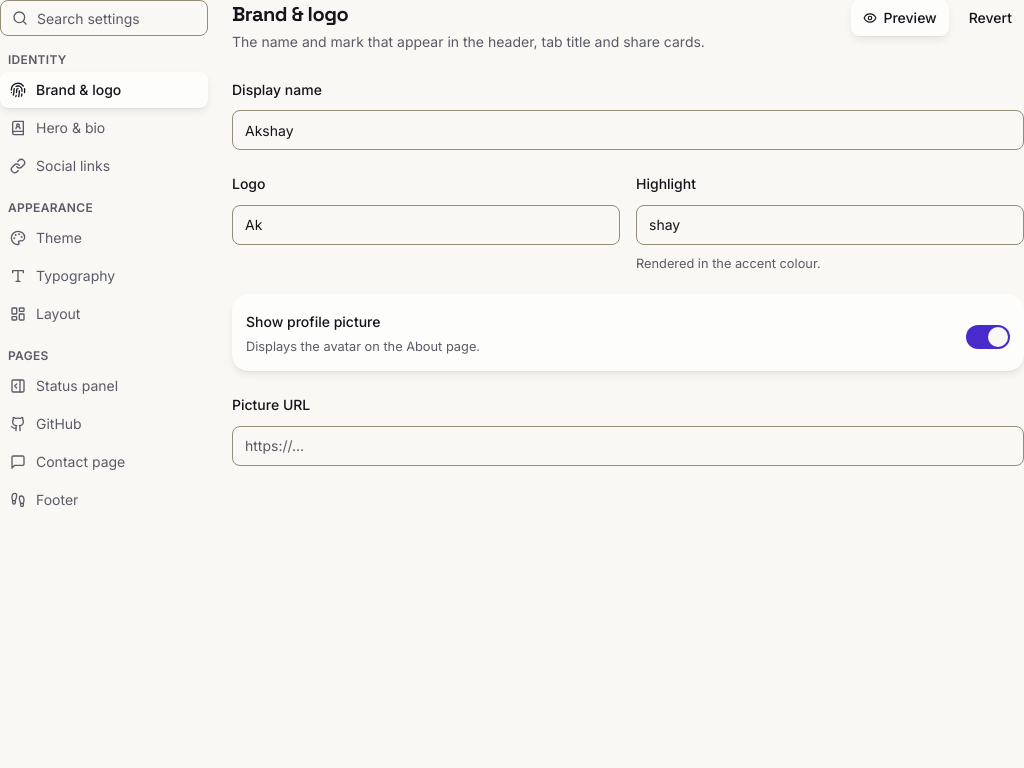
Test: SettingsPage revert › restores this group and leaves other groups alone
This screenshot has width=1024, height=768.
Replace the text in the field labelled "Display name" with "Changed" at (628, 130), box [232,110,1023,150]
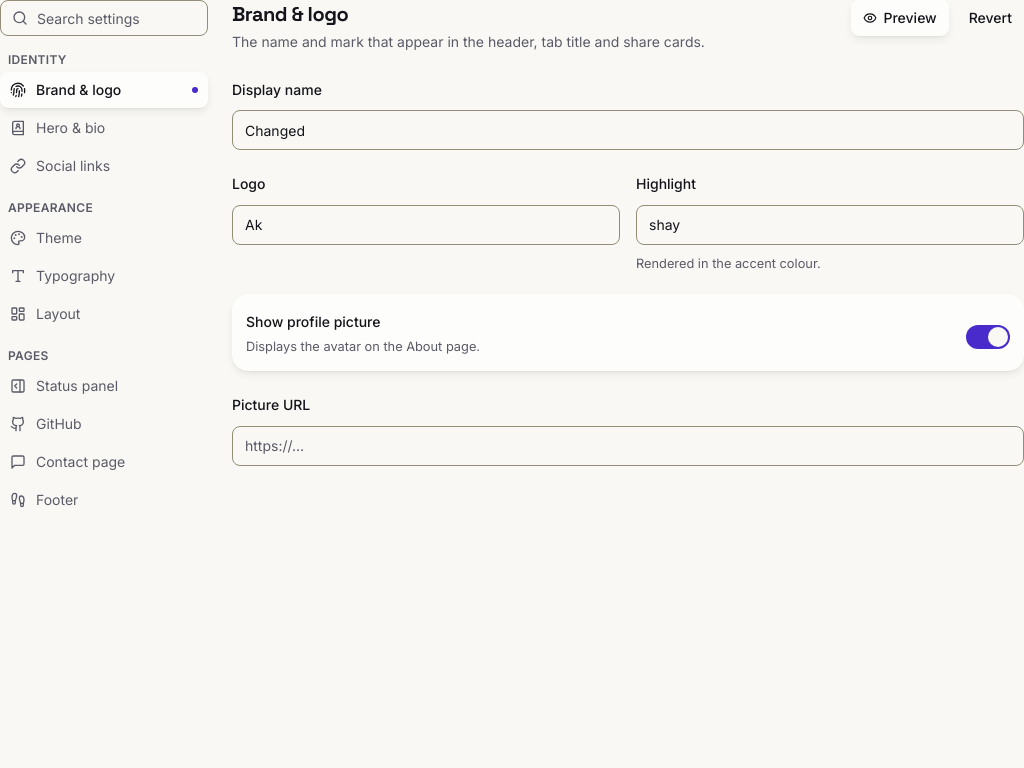
Click the button "Footer".
click(104, 500)  # box [0,482,208,518]
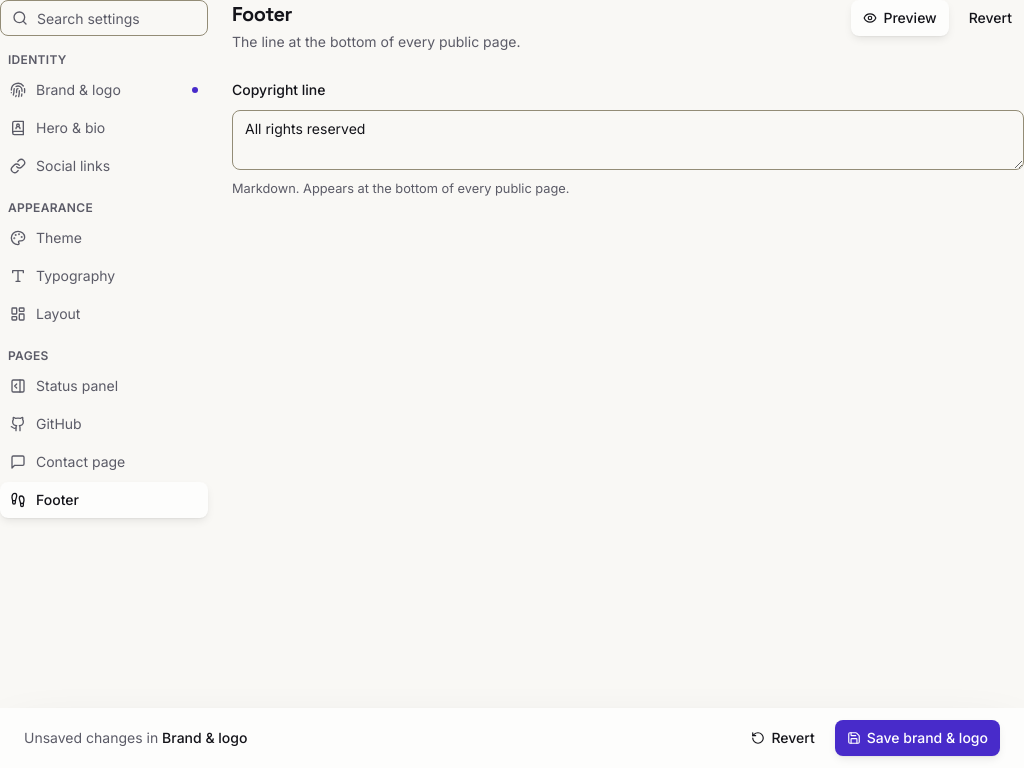
Replace the text in the text box labelled "Copyright line" with "Also changed" at (628, 140), box [232,110,1023,170]
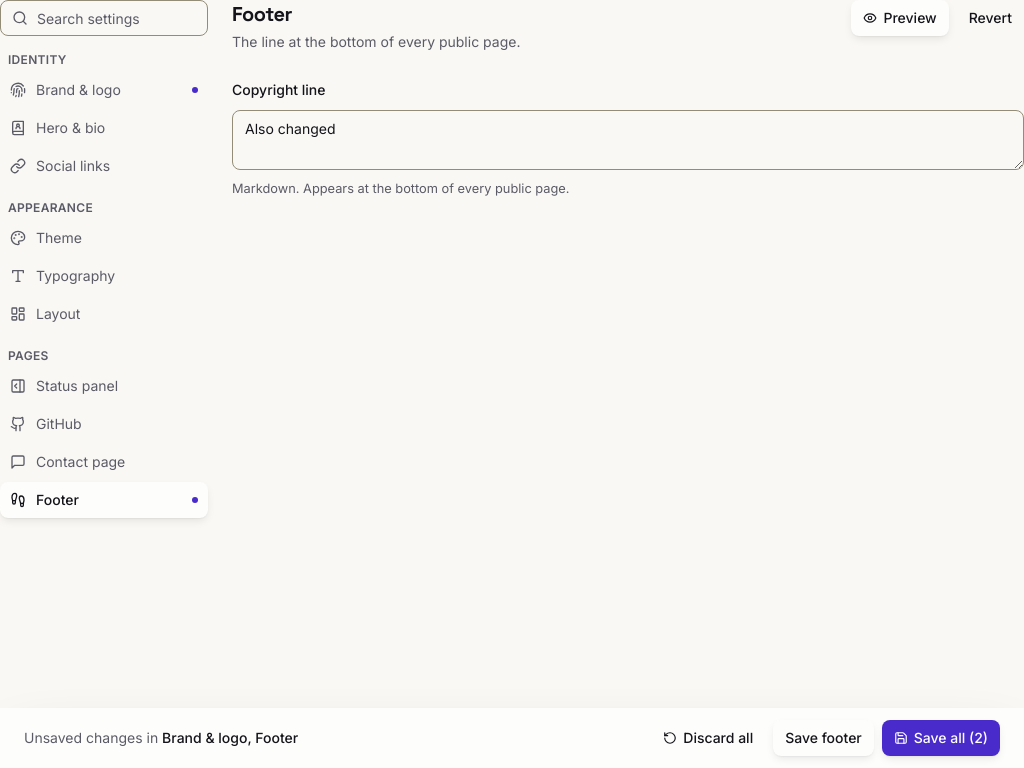
Click the button "Revert".
click(990, 18)  # box [957,0,1023,36]
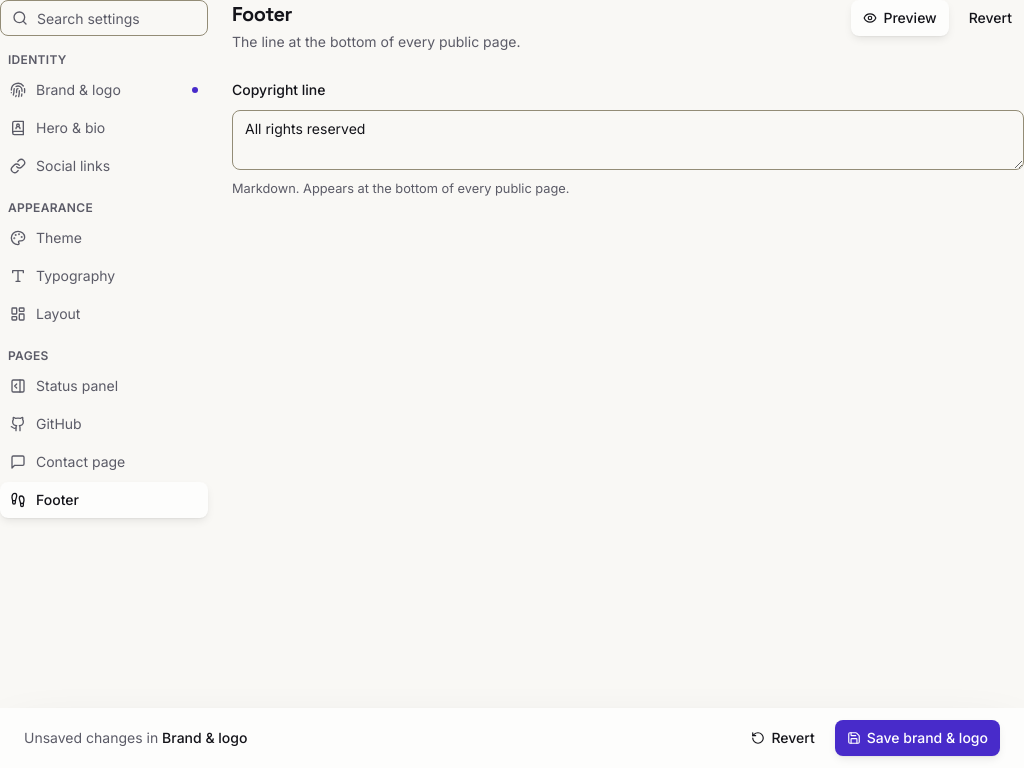
Check: the text box labelled "Copyright line" holds "All rights reserved", box [232,110,1023,170]
Click the button "Brand & logo".
click(104, 90)  # box [0,72,208,108]
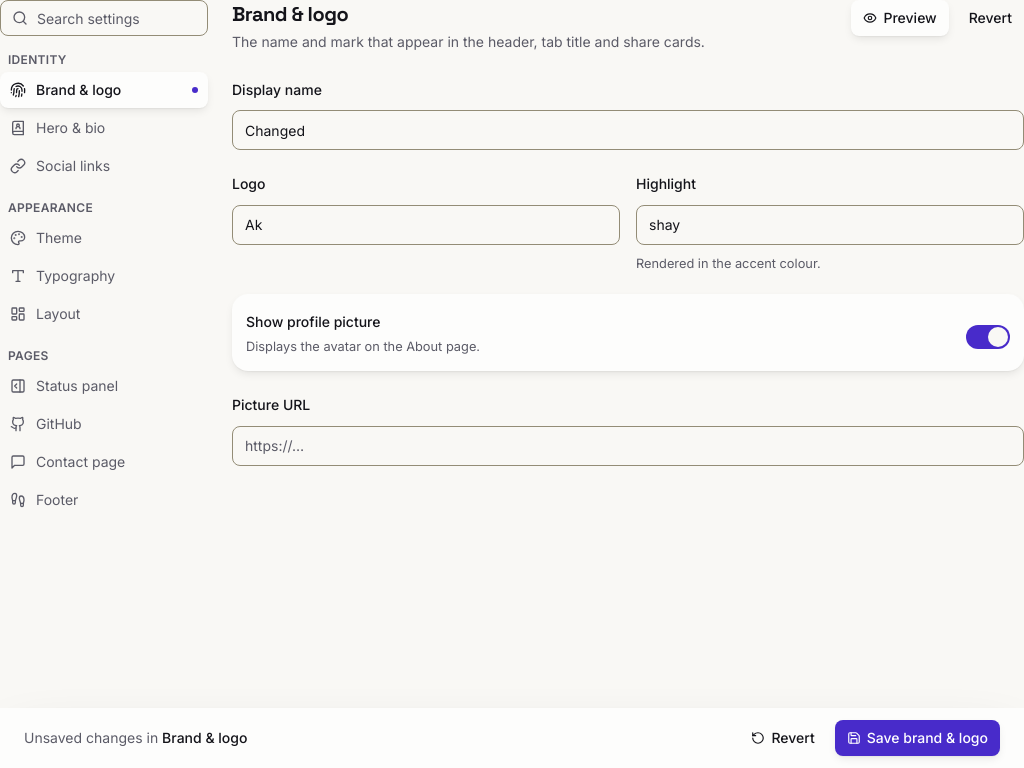
Check: the field labelled "Display name" holds "Changed", box [232,110,1023,150]
